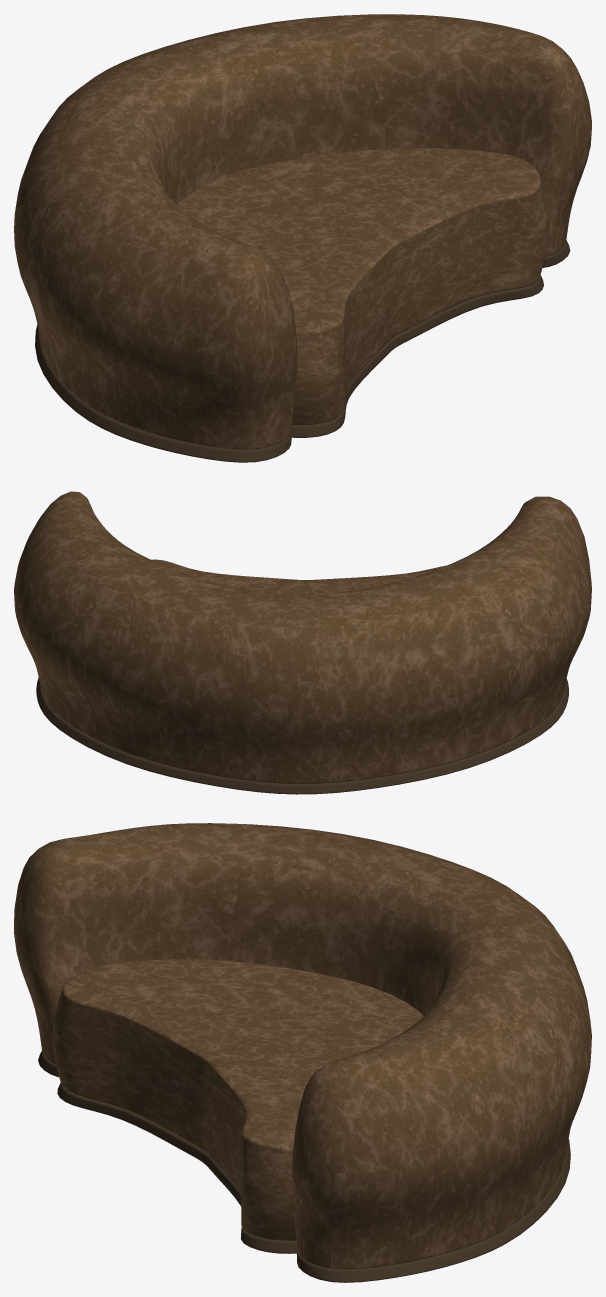
The model's file is uploads_files_2761995_Sofa+Cgtrader+new.fbx.
3 renders of one model, top to bottom at view 1: azimuth 30°, elevation 25°; view 2: azimuth 150°, elevation 25°; view 3: azimuth 270°, elevation 25°, orthographic. The views are drawn at different scales.
Visible parts, largest first — view 1: Main.004, Main.003, Main.001, Main.002; view 2: Main.004, Main.001, Main.003; view 3: Main.004, Main.003, Main.001, Main.002.
Boxes of the visible parts, box(x1,y1,x2,y2) form: Main.004: box(14, 14, 591, 449); Main.003: box(177, 148, 549, 425); Main.001: box(35, 240, 570, 462); Main.002: box(291, 275, 543, 437); Main.004: box(14, 491, 591, 783); Main.001: box(36, 677, 568, 794); Main.003: box(151, 559, 446, 594); Main.004: box(14, 823, 591, 1269); Main.003: box(52, 959, 423, 1240); Main.001: box(38, 1051, 570, 1282); Main.002: box(57, 1083, 296, 1253).
Bounding box in the file's own units: 334 × 113 × 280.
